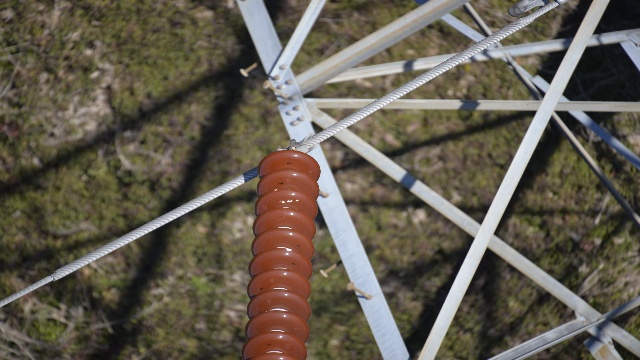insulator_unspecified: (240, 151, 322, 359)
pollution_flashover_local: (269, 209, 287, 221)
